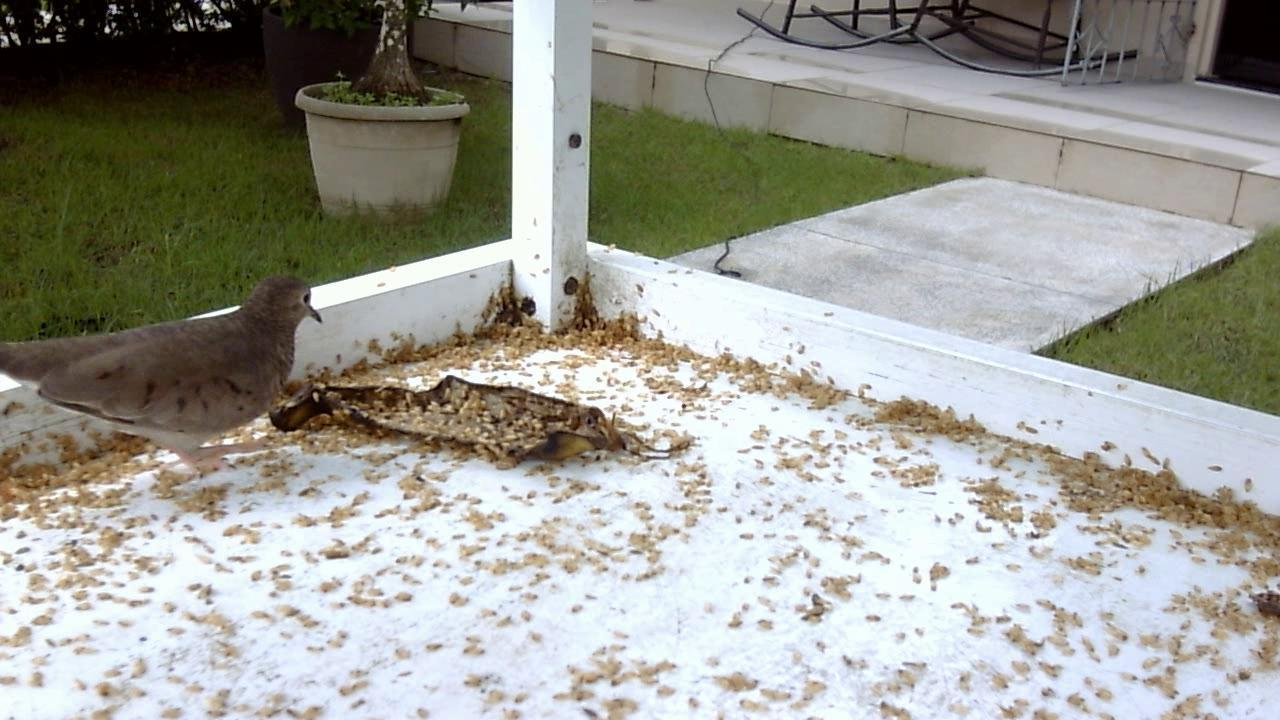rolinha: (1, 267, 340, 493)
